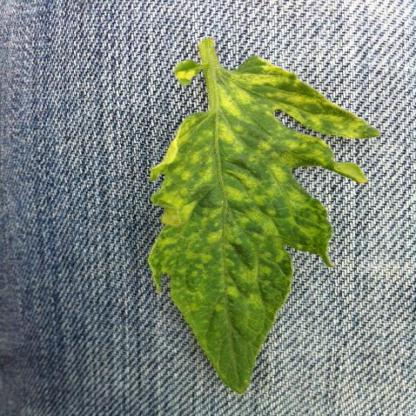Tomato leaf mosaic virus: (139, 27, 385, 400)
